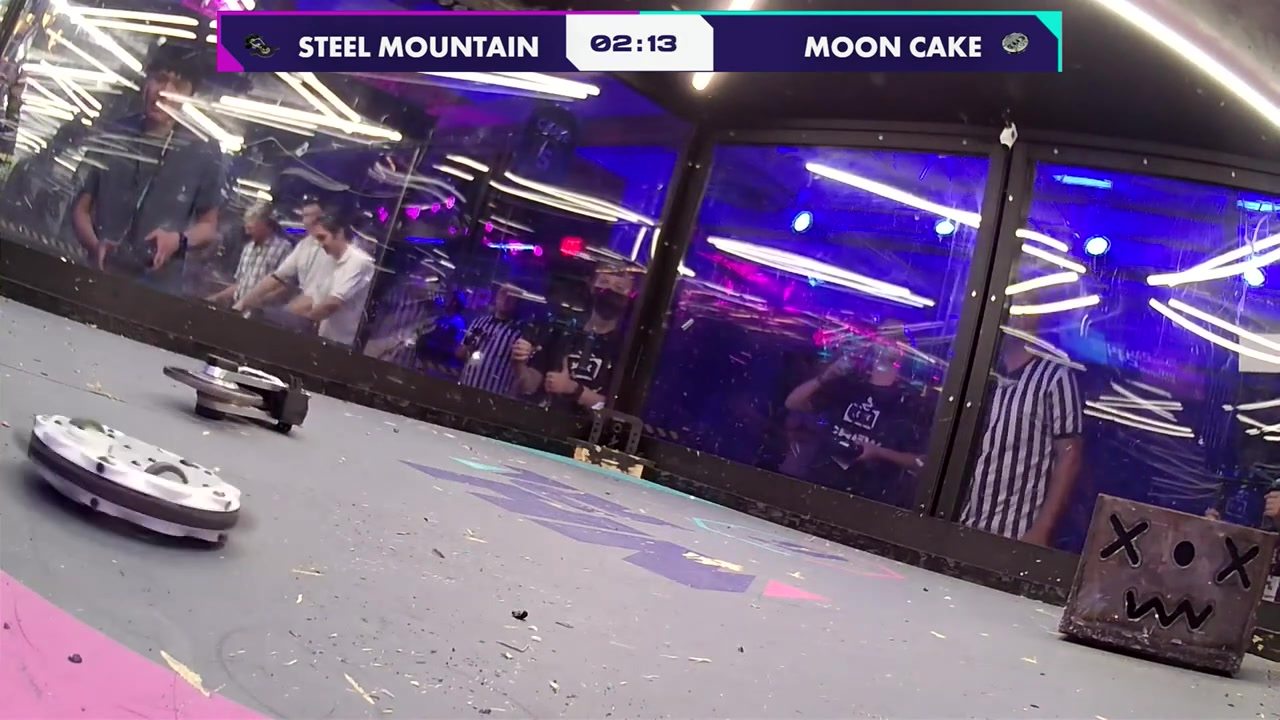combatbot: (25, 413, 246, 545), (159, 350, 310, 436)
debris: (510, 606, 531, 622)
housebot: (1058, 490, 1275, 677)
